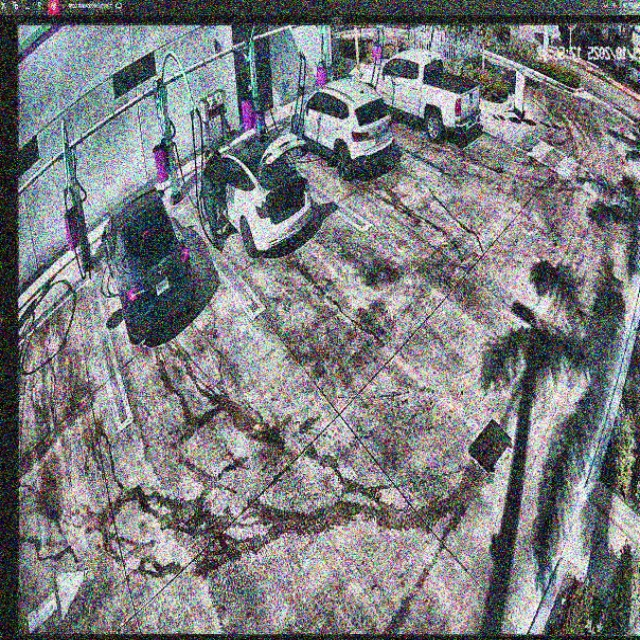Car: (101, 181, 197, 344), (205, 133, 304, 263), (292, 81, 395, 174)
